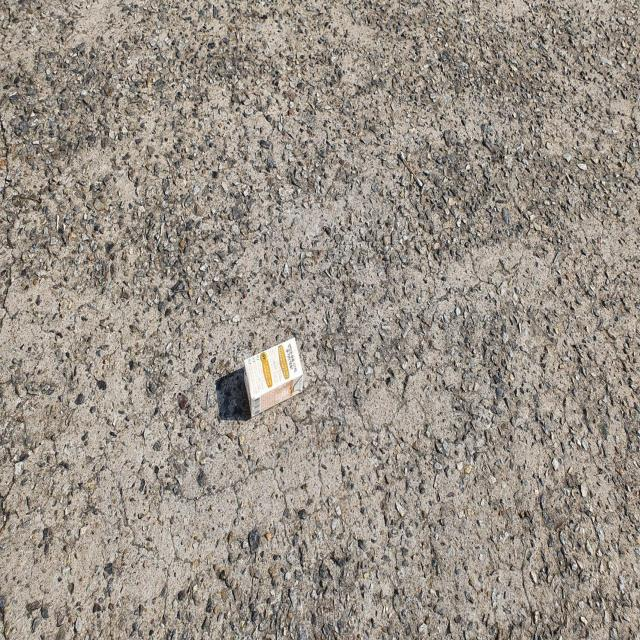paperpack: (244, 338, 303, 416)
